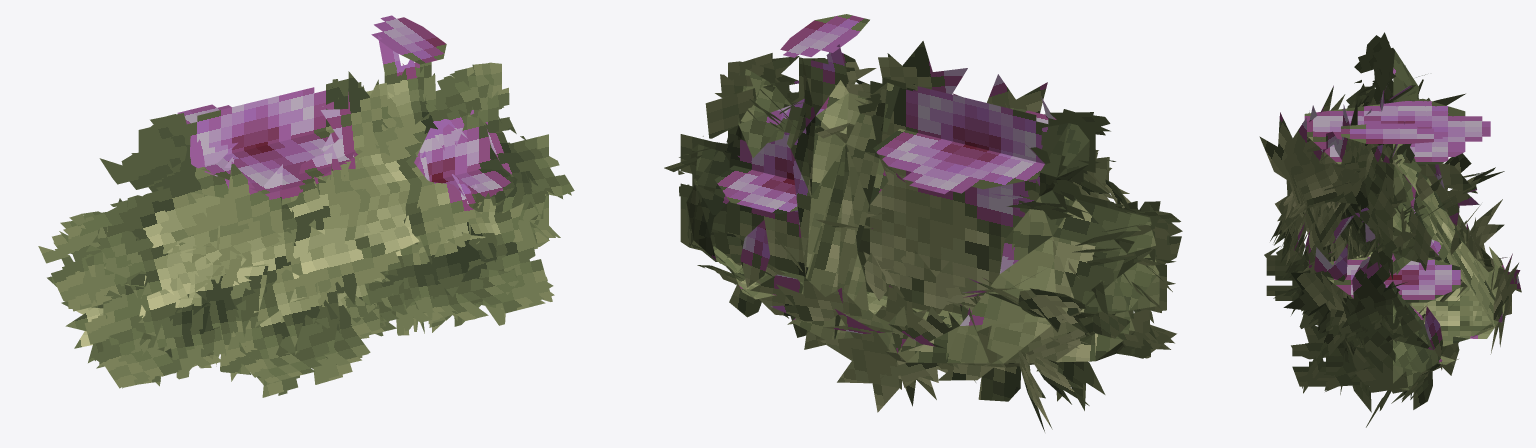
File: flower_898_cut_hd.glb
3 renders of one model, left to right at view 1: azimuth 30°, elevation 25°; view 2: azimuth 150°, elevation 25°; view 3: azimuth 270°, elevation 25°, orthographic. The views are drawn at different scales.
Visible parts, largest first — view 1: flower_898_cut_lod0; view 2: flower_898_cut_lod0; view 3: flower_898_cut_lod0.
Part boxes in pixels (box(x1,y1,x2,y2)): flower_898_cut_lod0: box(38, 15, 574, 397); flower_898_cut_lod0: box(664, 14, 1182, 431); flower_898_cut_lod0: box(1259, 32, 1521, 427).
Size of the model in its own units: 0.9959 by 0.5421 by 0.4612.
1 material, 1 textured.
